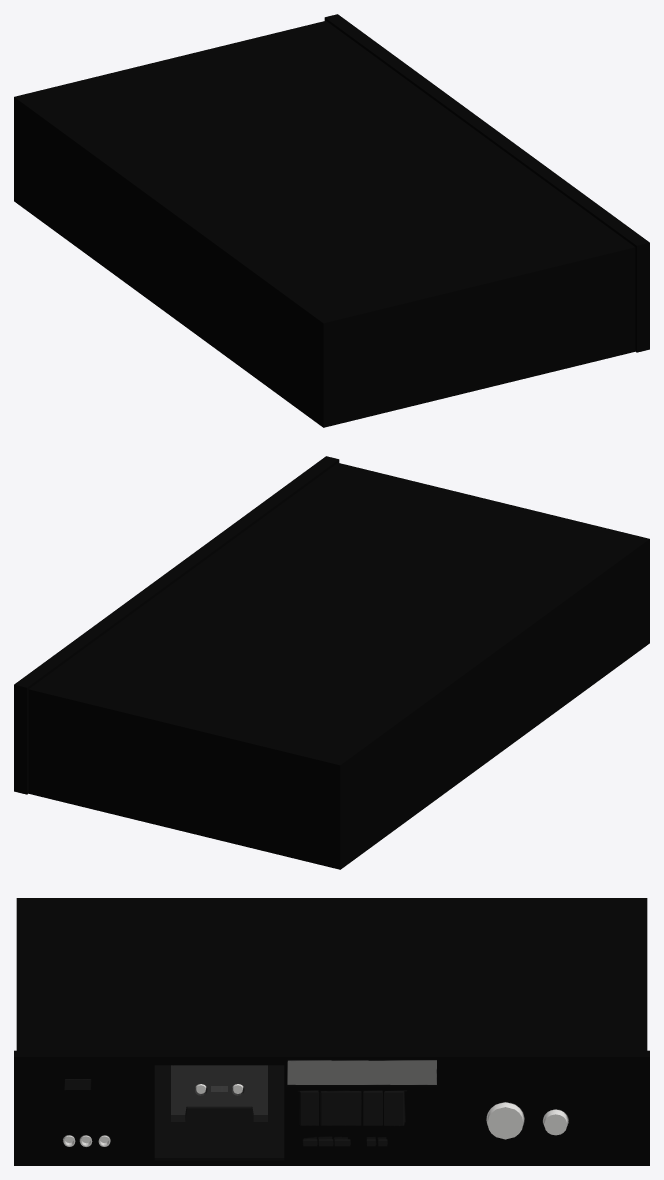
Rendered from cassettedeck.fbx.
The picture shows the model from 3 angles, top to bottom: view 1: azimuth 30°, elevation 25°; view 2: azimuth 150°, elevation 25°; view 3: azimuth 270°, elevation 25°; orthographic projection.
Visible parts, largest first — view 1: cassettedeck; view 2: cassettedeck; view 3: cassettedeck.
Part boxes in pixels (x1=…): cassettedeck: x1=14, y1=14, x2=649, y2=427; cassettedeck: x1=14, y1=456, x2=649, y2=869; cassettedeck: x1=14, y1=898, x2=649, y2=1165.
Size of the model in its own units: 286 by 87.86 by 465.
